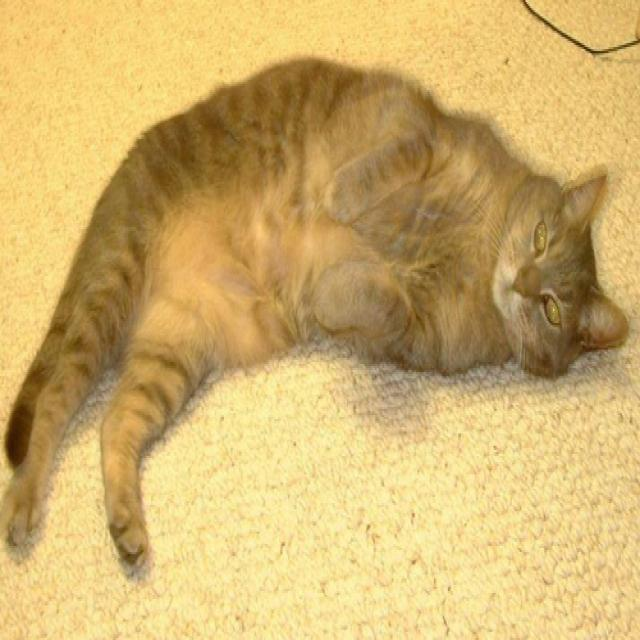cat: (1, 56, 629, 571)
